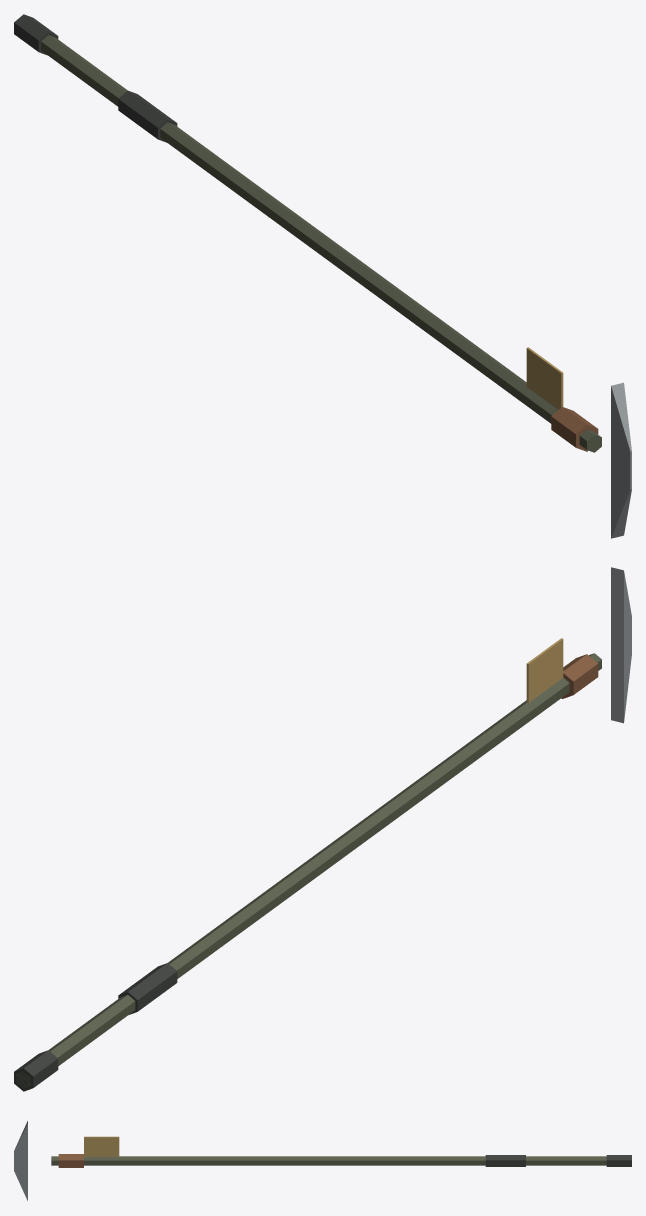
The model's file is wpn_spear.glb.
3 views of the same model, one above another, from view 1: azimuth 30°, elevation 25°; view 2: azimuth 150°, elevation 25°; view 3: azimuth 270°, elevation 25° (orthographic). The views are drawn at different scales.
Visible parts, largest first — view 1: shaft, head, pennant, wrap_a, collar, wrap_b; view 2: shaft, head, pennant, wrap_a, wrap_b, collar; view 3: shaft, pennant, head, wrap_a, collar, wrap_b.
Part boxes in pixels (x1,y1,x2,y2): shaft: (41,35,601,452); head: (611,382,631,538); pennant: (526,347,563,409); wrap_a: (118,90,177,142); collar: (551,407,598,451); wrap_b: (14,14,58,55); shaft: (16,653,601,1088); head: (611,567,631,723); pennant: (526,638,563,702); wrap_a: (118,963,177,1014); wrap_b: (14,1050,58,1091); collar: (561,654,598,698); shaft: (51,1156,606,1165); pennant: (84,1136,119,1156); head: (14,1121,27,1200); wrap_a: (485,1155,525,1166); collar: (58,1154,83,1167); wrap_b: (606,1155,631,1166).
Bounding box in the file's own units: 0.052 × 0.34 × 2.45.
